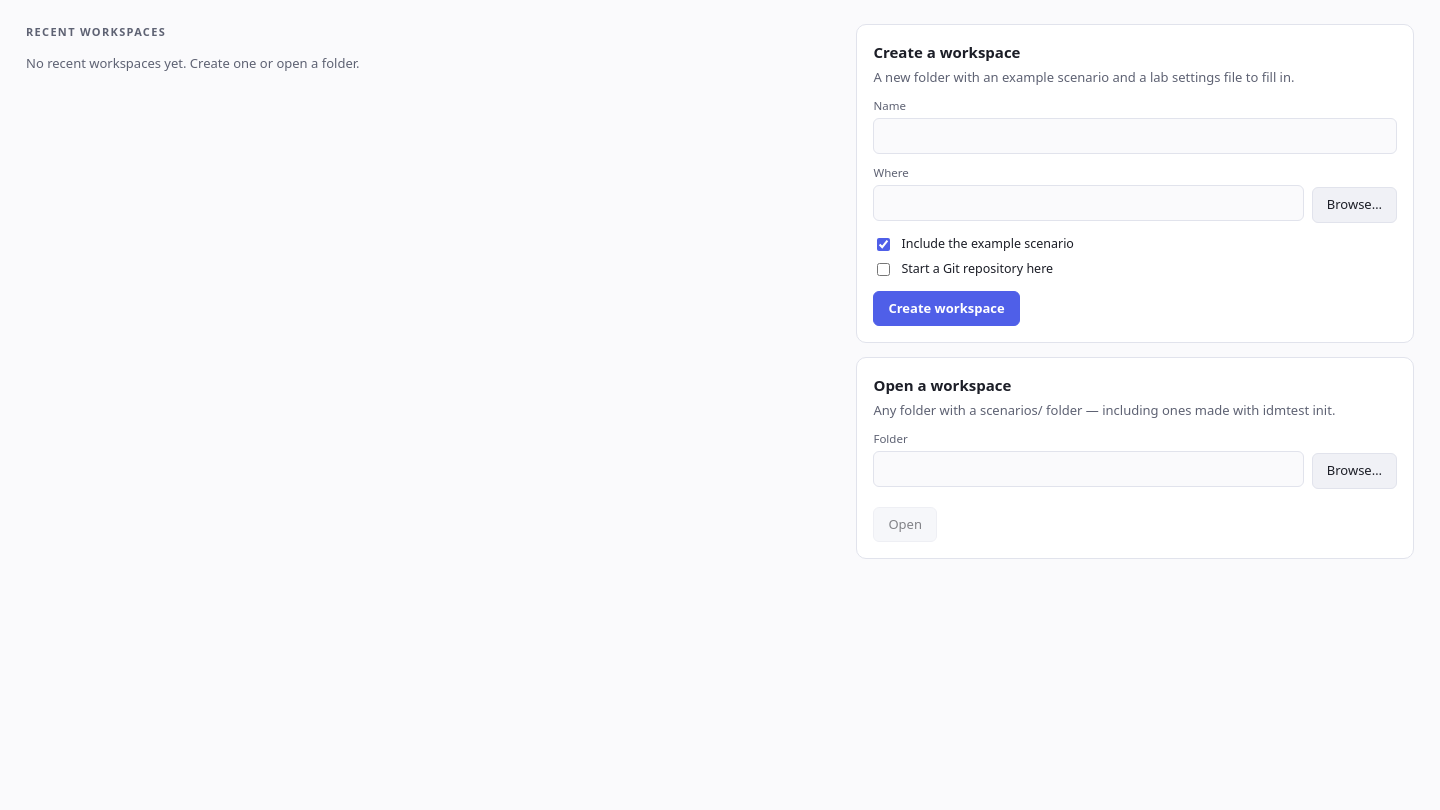
Test: StartPage › shows the server's message when creating fails
In the field labelled "Name": (1135, 136) [873,118,1397,154], type "n"
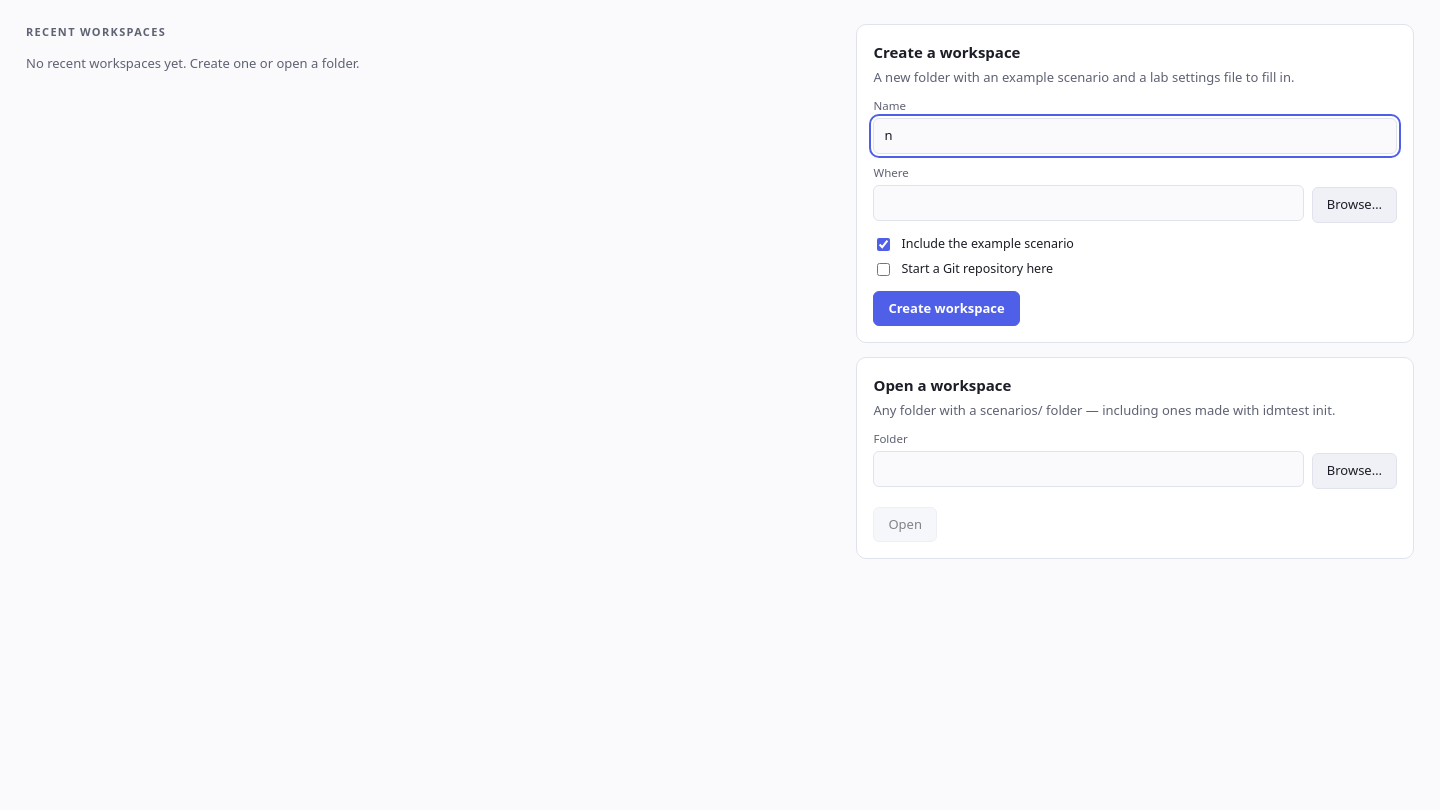
In the field labelled "Where": (1089, 203) [873,185,1304,220], type "/w"
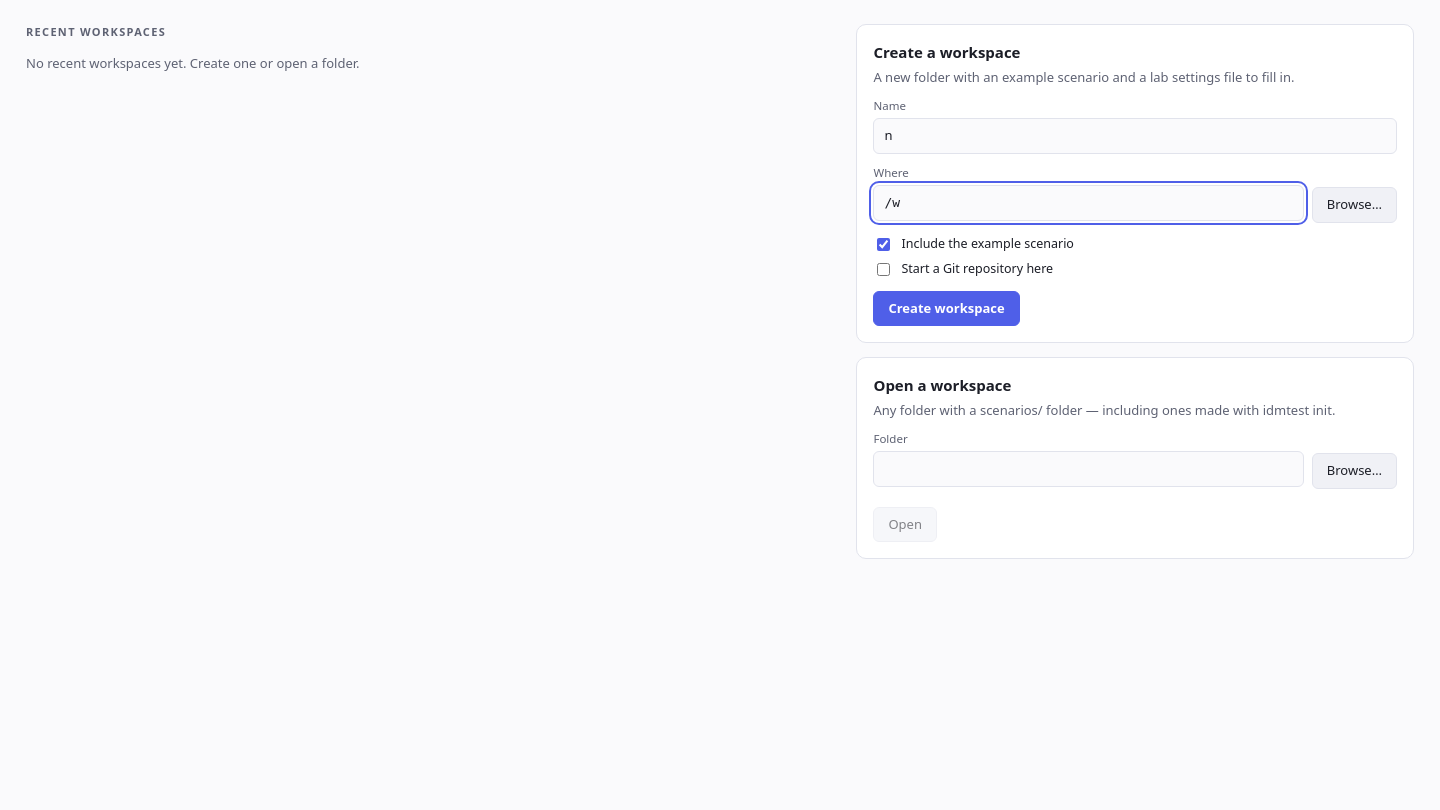
Click the button "Create workspace": (946, 308) [873,290,1020,326]
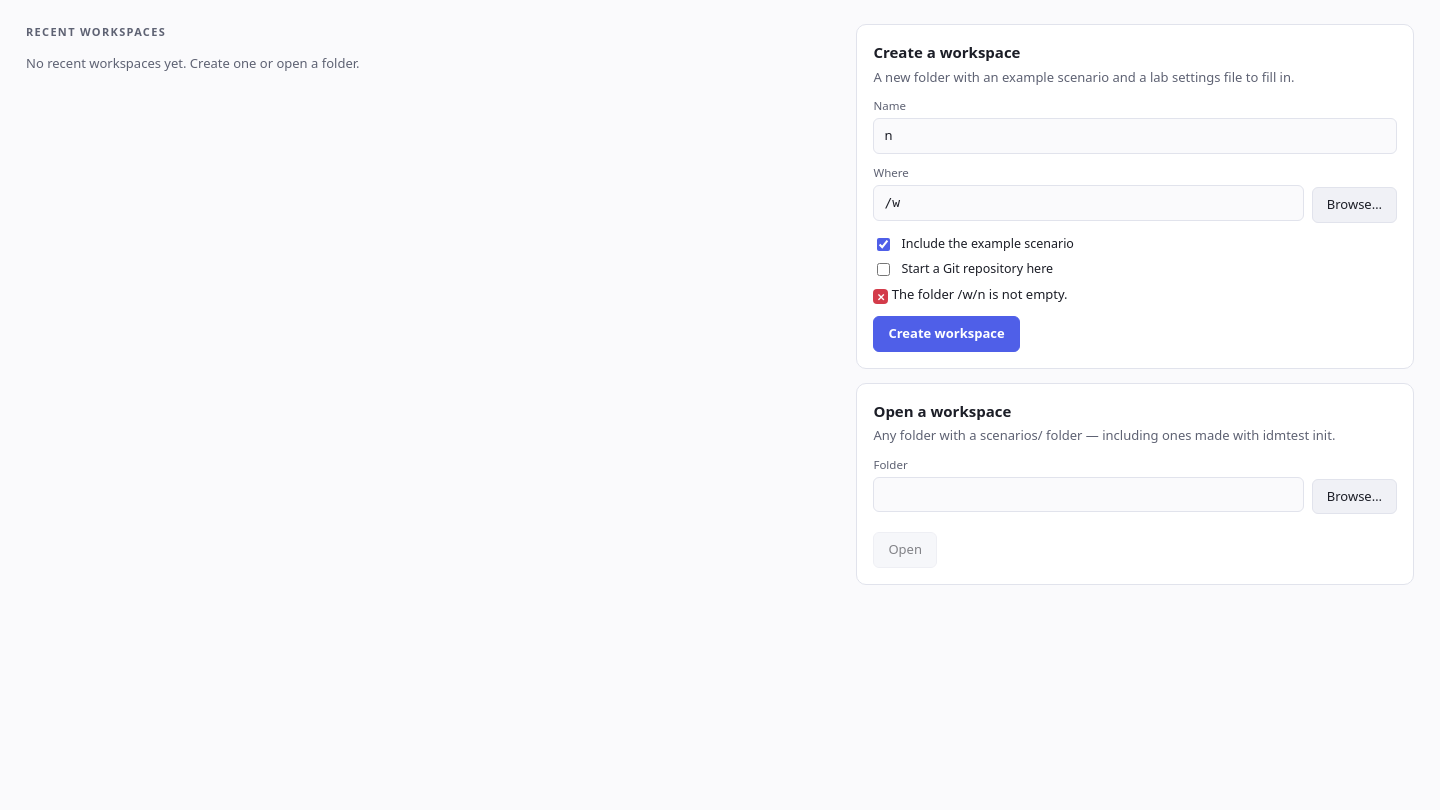
Check: the message shows "The folder /w/n is not empty.", box [892,284,1068,302]
